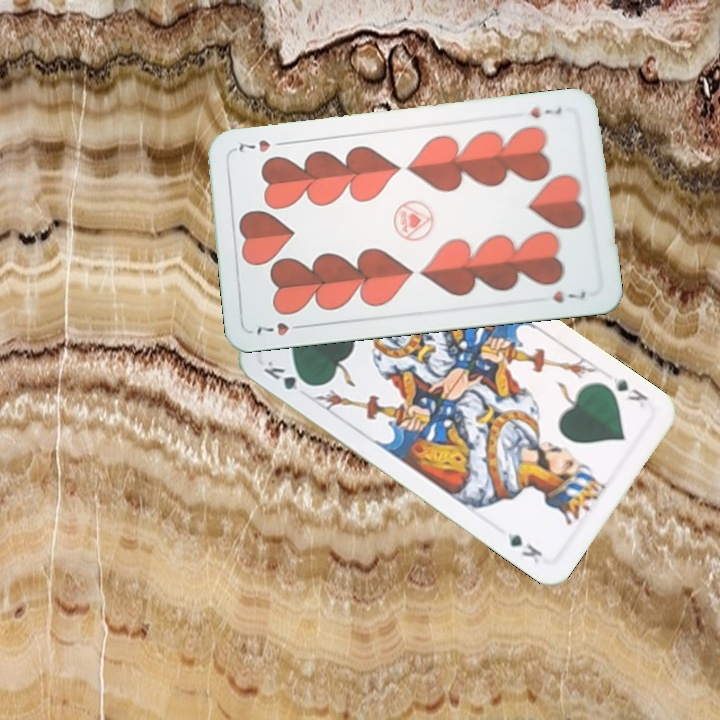GK: (259, 356, 315, 394), (609, 373, 651, 404)
H7: (252, 318, 308, 339), (527, 102, 565, 121)
